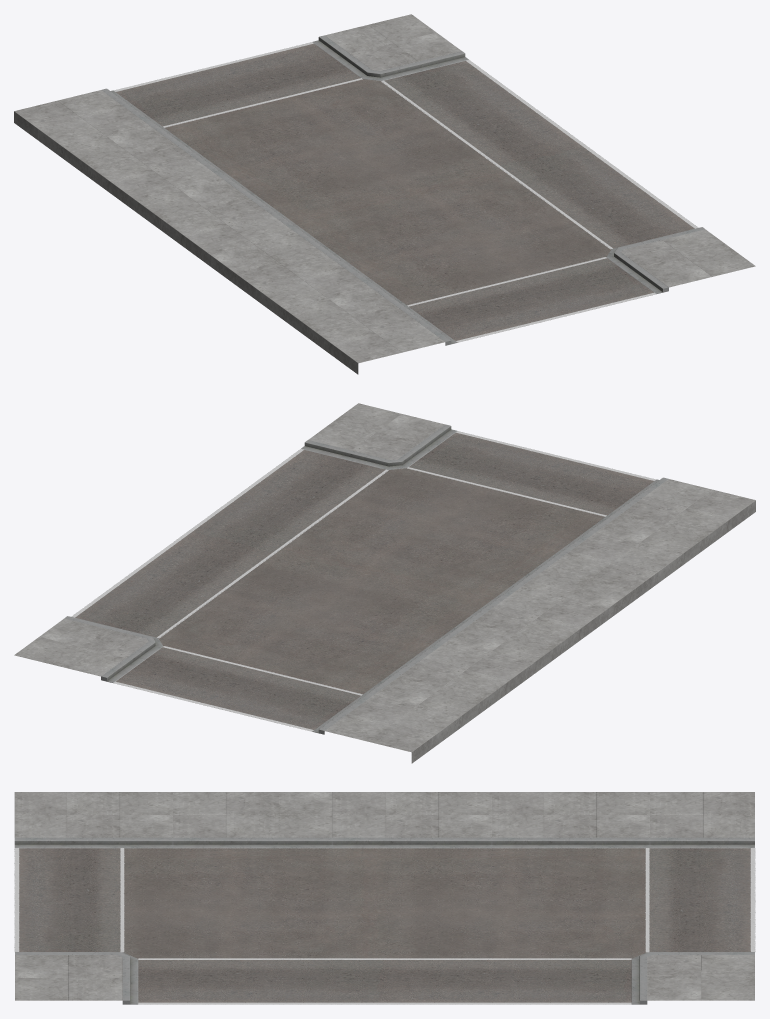
Rendered from Intersection_T_2x4_lane.fbx.
3 views of the same model, one above another, from view 1: azimuth 30°, elevation 25°; view 2: azimuth 150°, elevation 25°; view 3: azimuth 270°, elevation 25° (orthographic). The views are drawn at different scales.
Parts seen in each view (by area): view 1: Intersection_T_2x4_lane; view 2: Intersection_T_2x4_lane; view 3: Intersection_T_2x4_lane.
Boxes of the visible parts, box(x1,y1,x2,y2) form: Intersection_T_2x4_lane: box(14, 14, 755, 374); Intersection_T_2x4_lane: box(14, 403, 755, 763); Intersection_T_2x4_lane: box(14, 792, 755, 1004).
Size of the model in its own units: 1603 by 44.86 by 2405.
